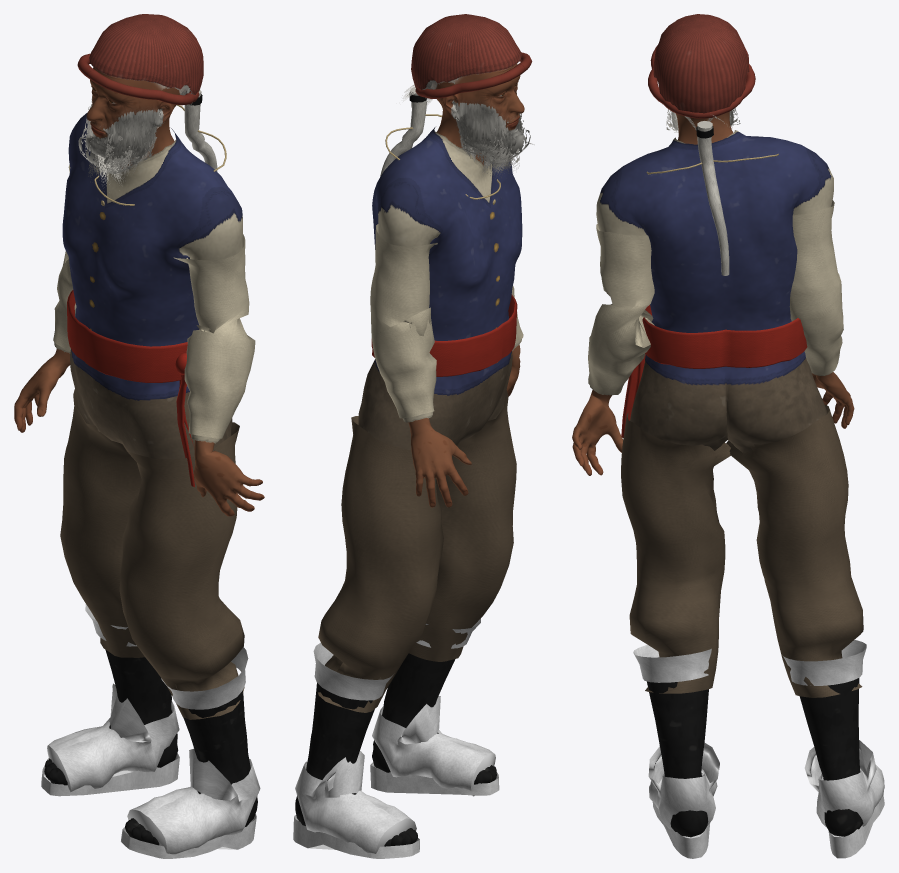
File: SM_Art_Person_esteban.gltf
The picture shows the model from 3 angles, left to right: view 1: azimuth 30°, elevation 25°; view 2: azimuth 150°, elevation 25°; view 3: azimuth 270°, elevation 25°; orthographic projection. The views are drawn at different scales.
Parts seen in each view (by area): view 1: SM_Art_Person_esteban; view 2: SM_Art_Person_esteban; view 3: SM_Art_Person_esteban.
Boxes of the visible parts, <box> form: SM_Art_Person_esteban: <box>14,14,264,858</box>; SM_Art_Person_esteban: <box>293,14,534,858</box>; SM_Art_Person_esteban: <box>572,14,884,858</box>.
Size of the model in its own units: 0.3765 by 1.76 by 0.6301.
Materials: 24 (22 with a texture image).
